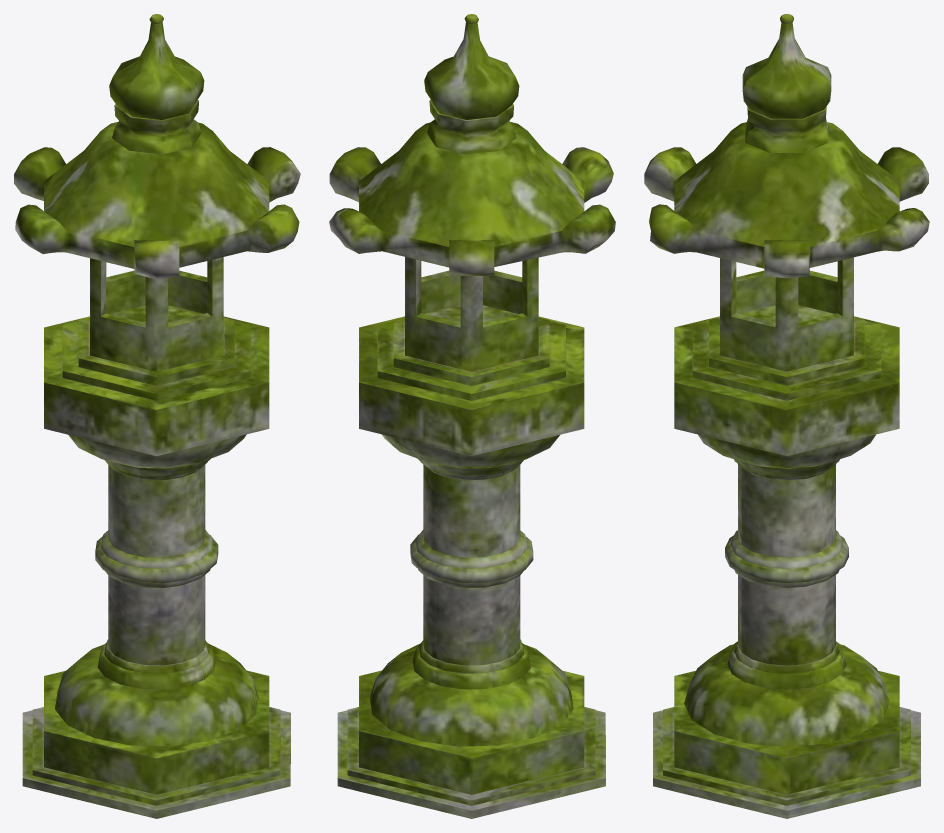
The model's file is toro.glb.
3 views of the same model, side by side, from view 1: azimuth 30°, elevation 25°; view 2: azimuth 150°, elevation 25°; view 3: azimuth 270°, elevation 25° (orthographic).
Visible parts, largest first — view 1: LP_Toro_Bake_0; view 2: LP_Toro_Bake_0; view 3: LP_Toro_Bake_0.
Part boxes in pixels (left/top/right/bottom): LP_Toro_Bake_0: left=14, top=14, right=300, bottom=818; LP_Toro_Bake_0: left=329, top=14, right=615, bottom=818; LP_Toro_Bake_0: left=644, top=14, right=929, bottom=818.
Size of the model in its own units: 1.53 by 4 by 1.4.
1 material, 1 textured.
